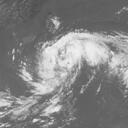cyclone: (32, 30, 109, 96)
